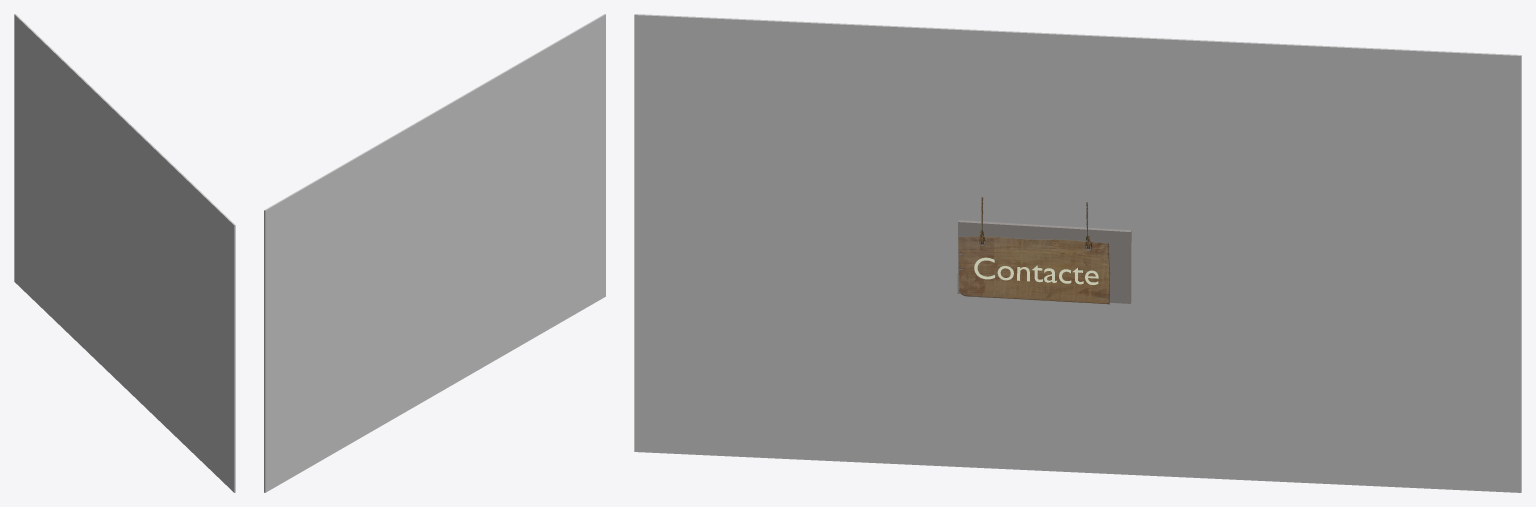
File: panneau-contacte.glb
3 renders of one model, left to right at view 1: azimuth 30°, elevation 25°; view 2: azimuth 150°, elevation 25°; view 3: azimuth 270°, elevation 25°, orthographic. The views are drawn at different scales.
Visible parts, largest first — view 1: Cube.001; view 2: Cube.001; view 3: Cube.001, pancarte-portfolio-webp, ombre, container-texte.
Boxes of the visible parts, x1,y1,x2,y2 form: Cube.001: (14,14,235,492); Cube.001: (264,14,605,492); Cube.001: (634,14,1521,492); pancarte-portfolio-webp: (958,197,1111,304); ombre: (957,220,1131,303); container-texte: (974,257,1098,284).
Size of the model in its own units: 8.07 by 39.12 by 71.98.
5 materials, 1 textured.
